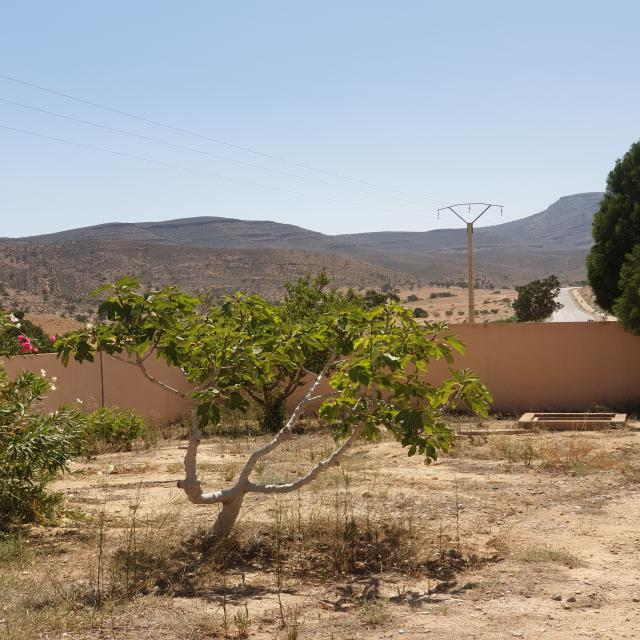Tree: (55, 277, 492, 538)
